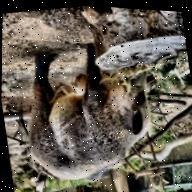boar: (0, 20, 186, 192)
